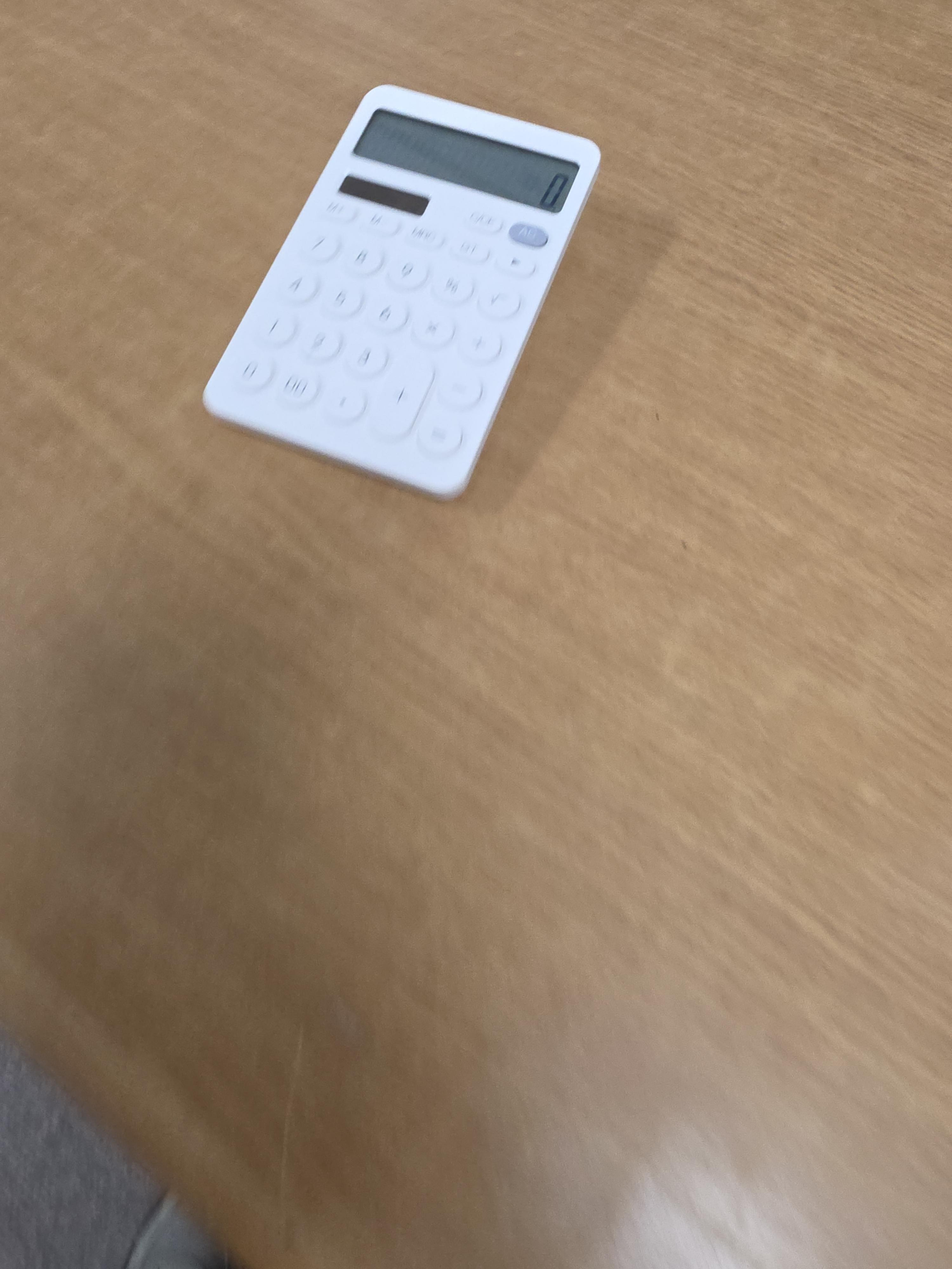calculator: (203, 84, 601, 500)
